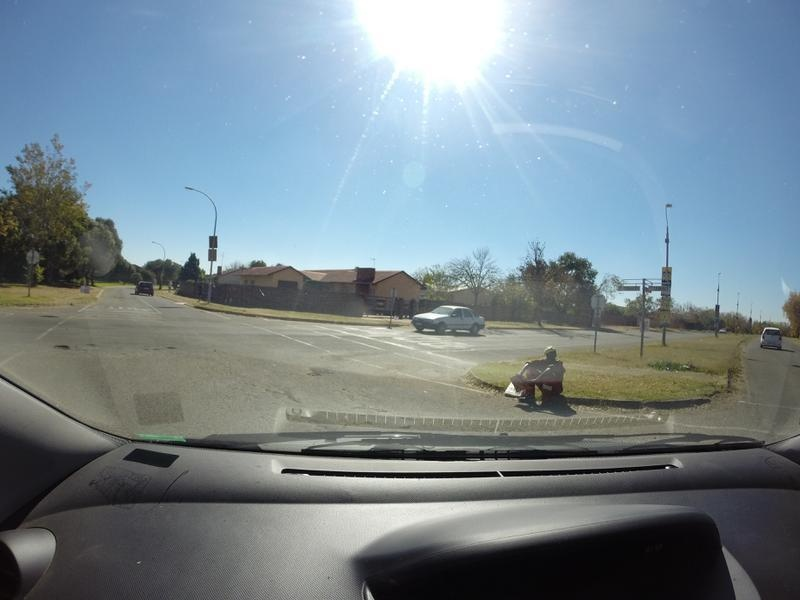pothole: (50, 339, 71, 358), (34, 310, 61, 320)
